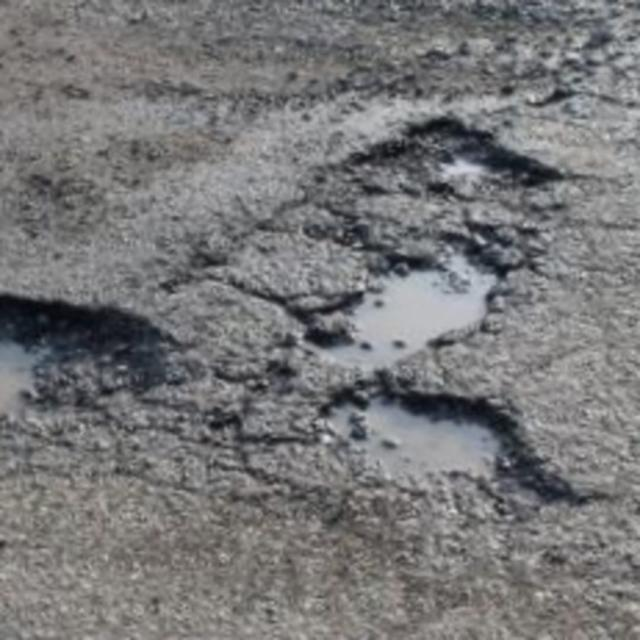pothole: (267, 256, 607, 558), (294, 98, 582, 272), (1, 276, 198, 467), (340, 0, 613, 123)
